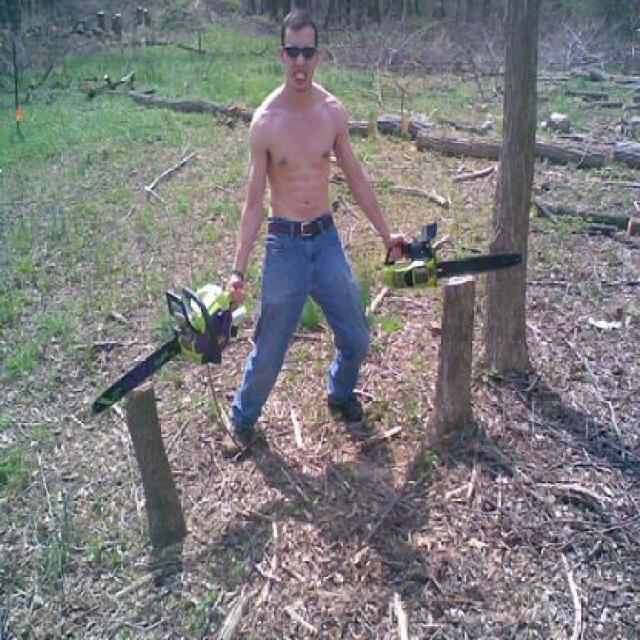Chainsaw: (87, 271, 250, 418), (374, 220, 521, 294)
